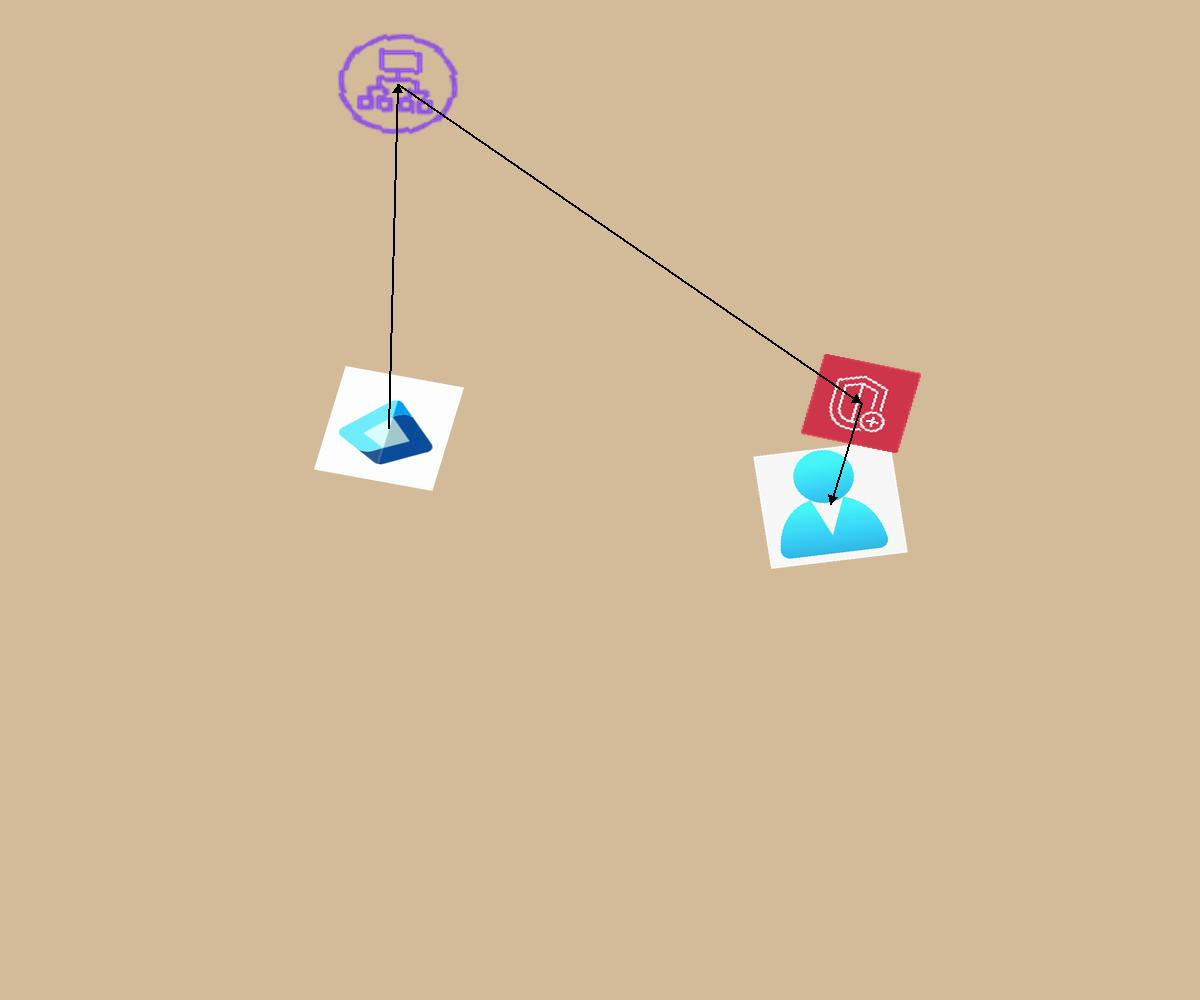AWS-Res_Elastic-Load-Balancing_Application-Load-Balancer: (325, 23, 471, 145)
AWS-Shield: (800, 353, 922, 454)
Azure_microsoft_entra: (314, 366, 464, 491)
Azure_users: (753, 440, 908, 569)
